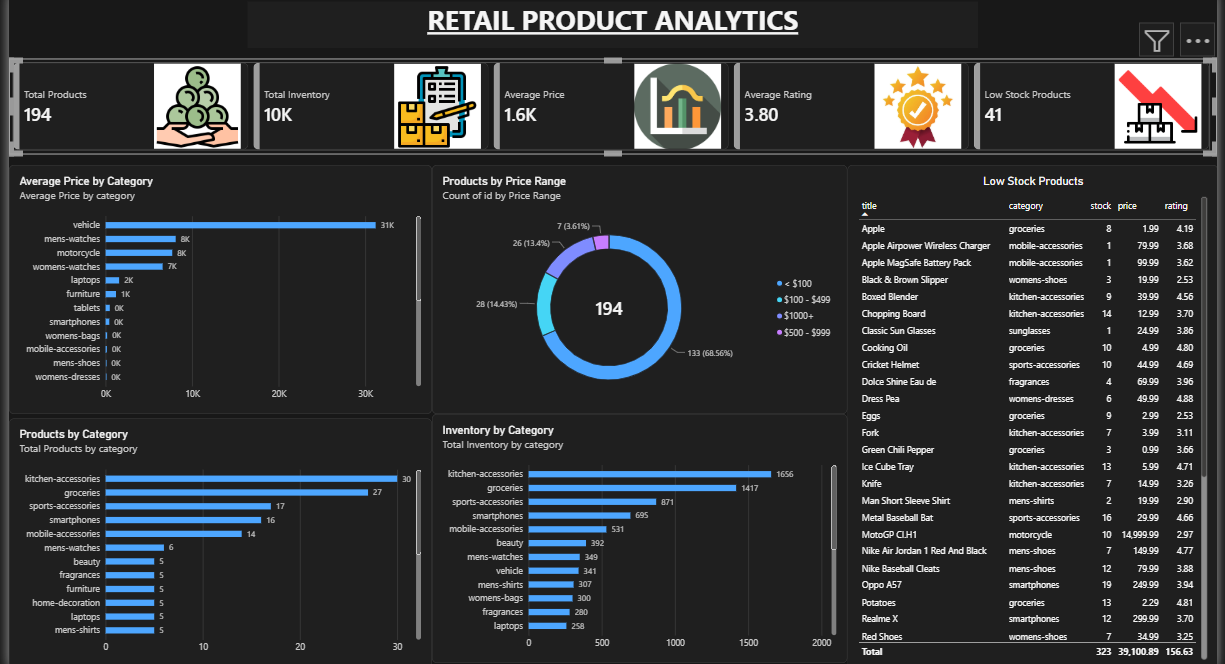

This screenshot's page, from the dashboard's own definition file:
{"tool":"powerbi","page":{"name":"analytics products","canvas":[1920,1080],"ordinal":0},"visuals":[{"type":"cardVisual","fields":{"Data":["analytics products.Total Products","analytics products.Total Inventory","analytics products.Average Price","analytics products.Average Rating","analytics products.Low Stock Products"]},"box":[0,107.4,1920.7,152.7],"z":0},{"type":"donutChart","title":"Products by Price Range","fields":{"Y":["CountNonNull(analytics products.id)"],"Category":["analytics products.Price Range"]},"box":[672.8,276.8,660.9,396.1],"z":1000},{"type":"clusteredBarChart","title":"Products by Category","fields":{"Category":["analytics products.category"],"Y":["analytics products.Total Products"]},"box":[0,680,672.8,396.1],"z":2000},{"type":"clusteredBarChart","title":"Inventory by Category","fields":{"Category":["analytics products.category"],"Y":["analytics products.Total Inventory"]},"box":[672.8,672.8,660.9,396.1],"z":3000},{"type":"tableEx","title":"Low Stock Products","fields":{"Values":["analytics products.title","analytics products.category","Sum(analytics products.stock)","Sum(analytics products.price)","Sum(analytics products.rating)"]},"box":[1333.7,276.8,589.3,804.1],"z":4000},{"type":"clusteredBarChart","title":"Average Price by Category","fields":{"Category":["analytics products.category"],"Y":["analytics products.Average Price"]},"box":[0,276.8,672.8,396.1],"z":5000},{"type":"textbox","box":[379.4,16.7,1161.9,74],"z":6000}]}

Visuals, with their boxes on the page's 1920x1080 design canvas (x1, y1, x2, y2). These are canvas units, not pixel positions in the 1225x664 screenshot, which may show the page scaled, cropped or inside an application window:
cardVisual - analytics products.Total Products x analytics products.Total Inventory: region(0, 107, 1921, 260)
"Products by Price Range" donutChart: region(673, 277, 1334, 673)
"Products by Category" clusteredBarChart: region(0, 680, 673, 1076)
"Inventory by Category" clusteredBarChart: region(673, 673, 1334, 1069)
"Low Stock Products" tableEx: region(1334, 277, 1923, 1081)
"Average Price by Category" clusteredBarChart: region(0, 277, 673, 673)
textbox: region(379, 17, 1541, 91)
